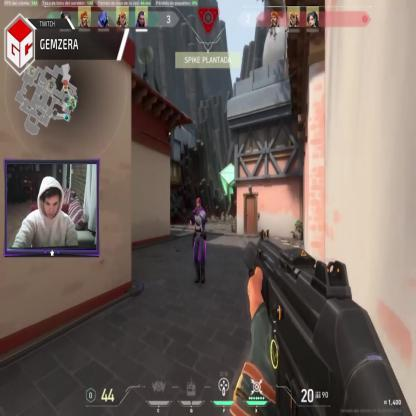enemy: (189, 194, 207, 286)
enemy_head: (196, 198, 201, 212)
